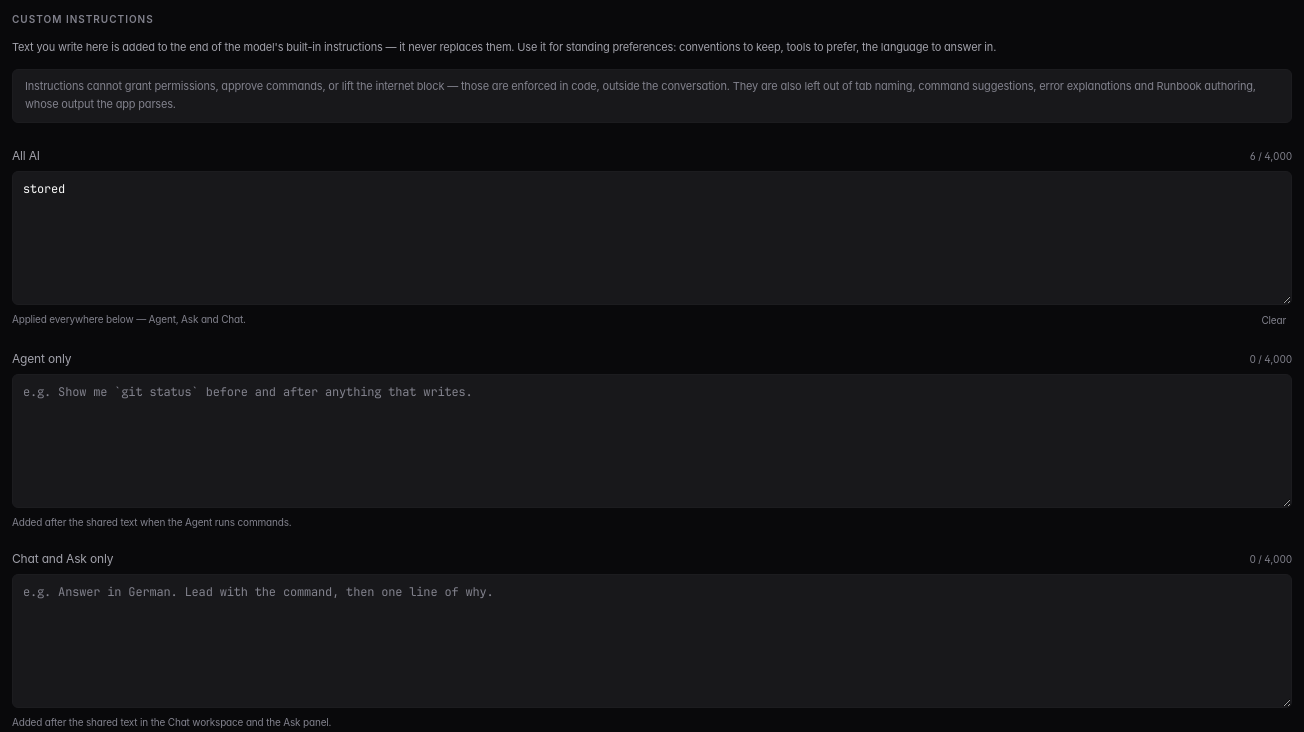
Test case: InstructionsSection › orders Clear after an in-flight blur-save without restoring the old draft
Step 1. Replace the text in the text box named "All AI" with "pending save" → (652, 238), box x1=13 y1=172 x2=1291 y2=304
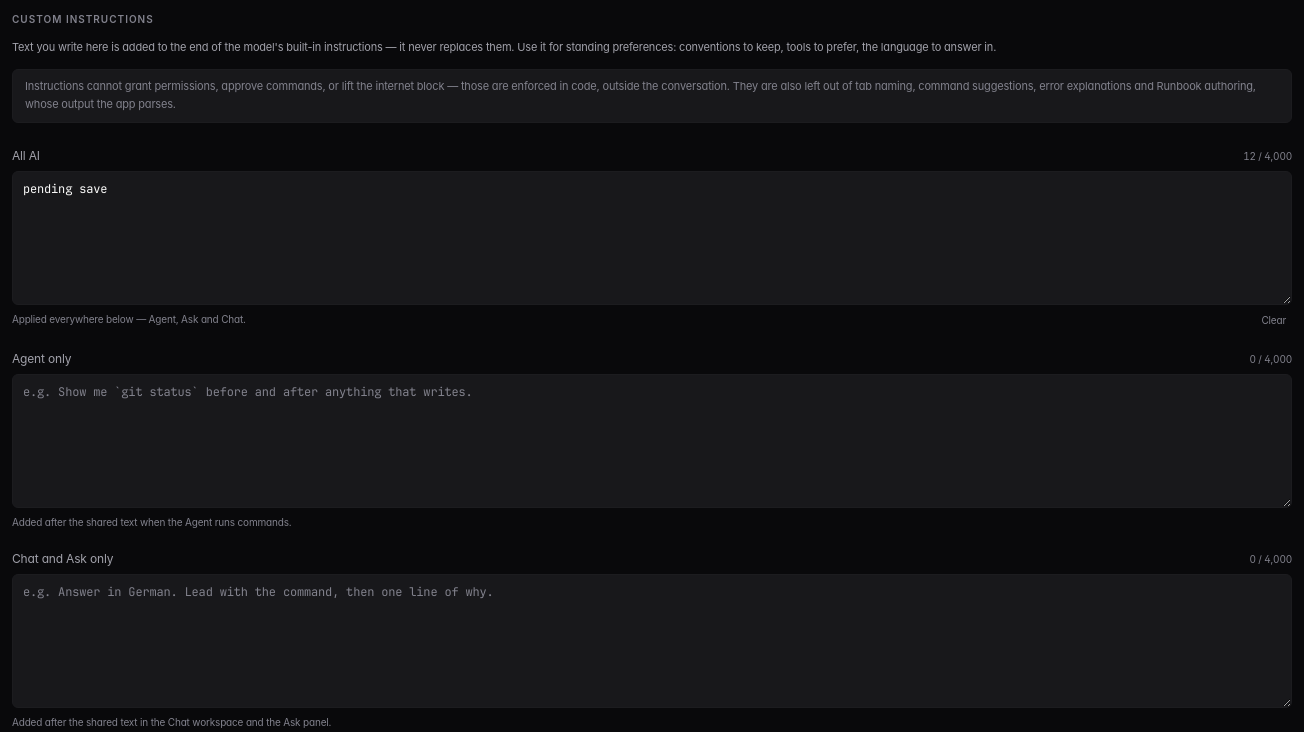
Step 2. Click the button "Clear" → (1274, 320), box x1=1255 y1=311 x2=1292 y2=330
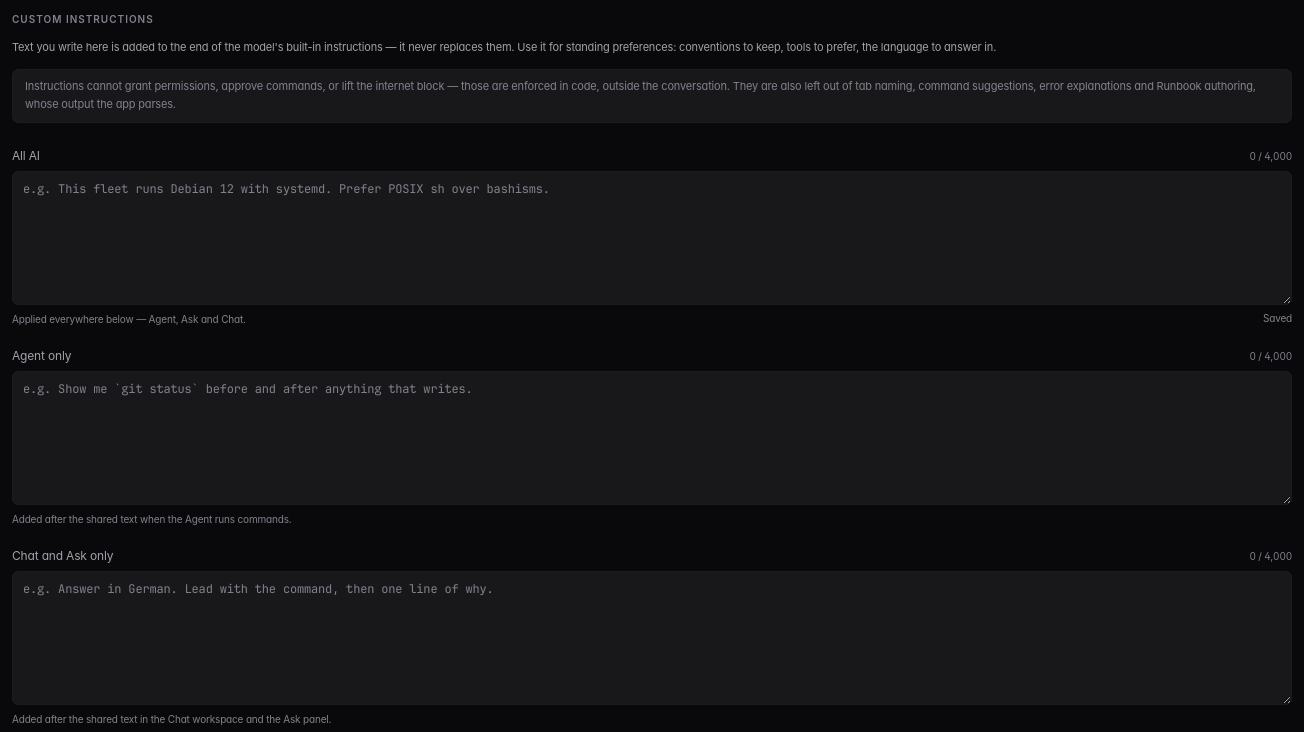
Check: the text box named "All AI" is empty, box x1=13 y1=172 x2=1291 y2=304
